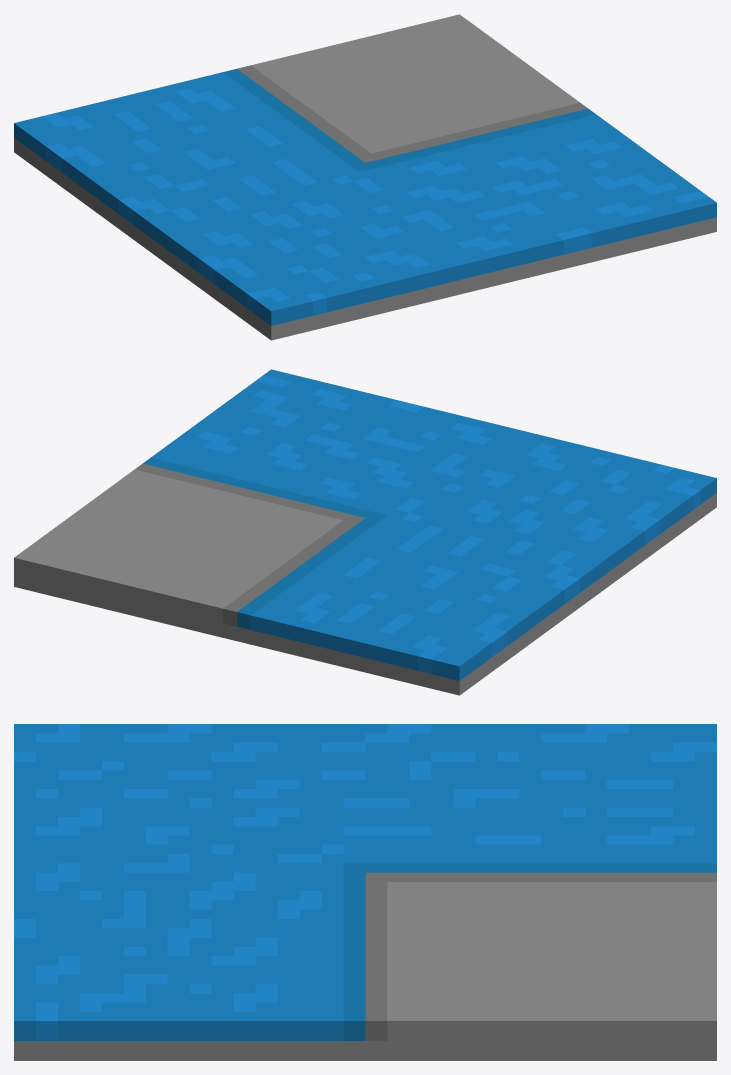
The model's file is city-water-edgy-edge-outer-3.gltf.
3 renders of one model, top to bottom at view 1: azimuth 30°, elevation 25°; view 2: azimuth 150°, elevation 25°; view 3: azimuth 270°, elevation 25°, orthographic. The views are drawn at different scales.
Parts seen in each view (by area): view 1: city-water-edgy-edge-outer-3_model; view 2: city-water-edgy-edge-outer-3_model; view 3: city-water-edgy-edge-outer-3_model.
Boxes of the visible parts, left/top/right/bottom form: city-water-edgy-edge-outer-3_model: left=14, top=14, right=716, bottom=340; city-water-edgy-edge-outer-3_model: left=14, top=369, right=716, bottom=695; city-water-edgy-edge-outer-3_model: left=14, top=724, right=716, bottom=1060.
Bounding box in the file's own units: 3.2 × 0.2 × 3.2.
Materials: 1 (1 with a texture image).
